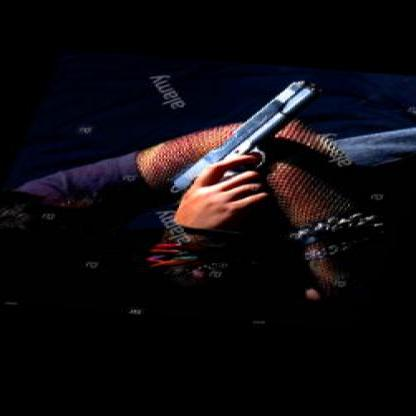pistol: (154, 69, 333, 235)
